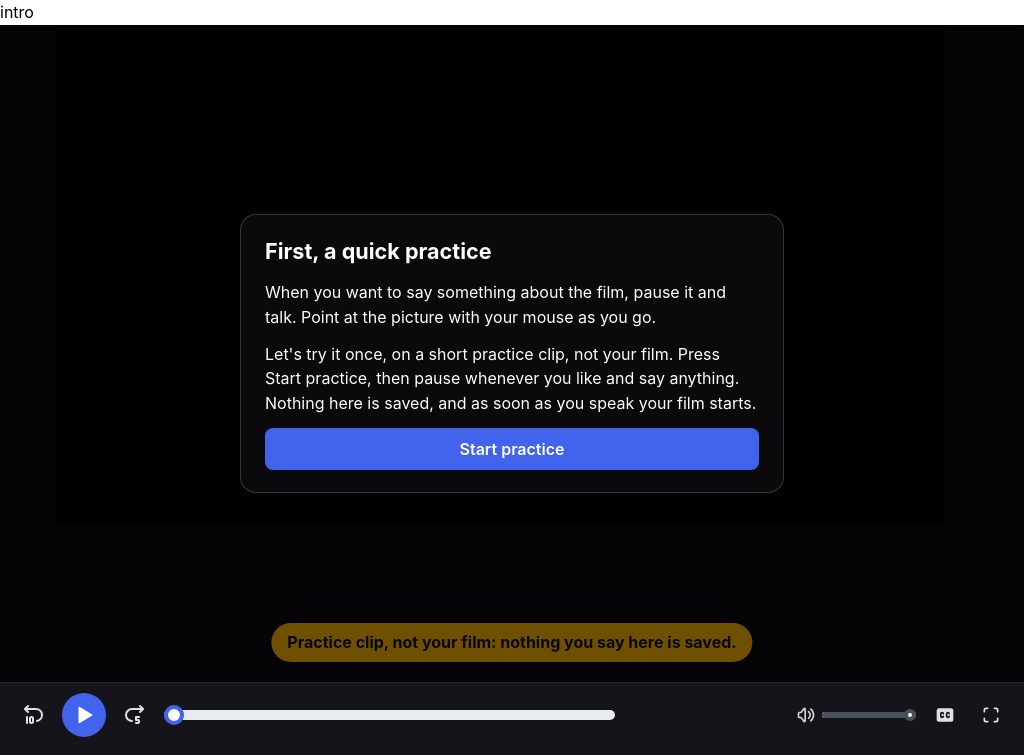
Test case: practice run (talkie) › a couple of seconds into the practice, a big prompt says how to pause, until they do
This screenshot has width=1024, height=755.
Click the button with test id "practice-start": (512, 449) [265, 428, 759, 470]
Wait 2005 ms
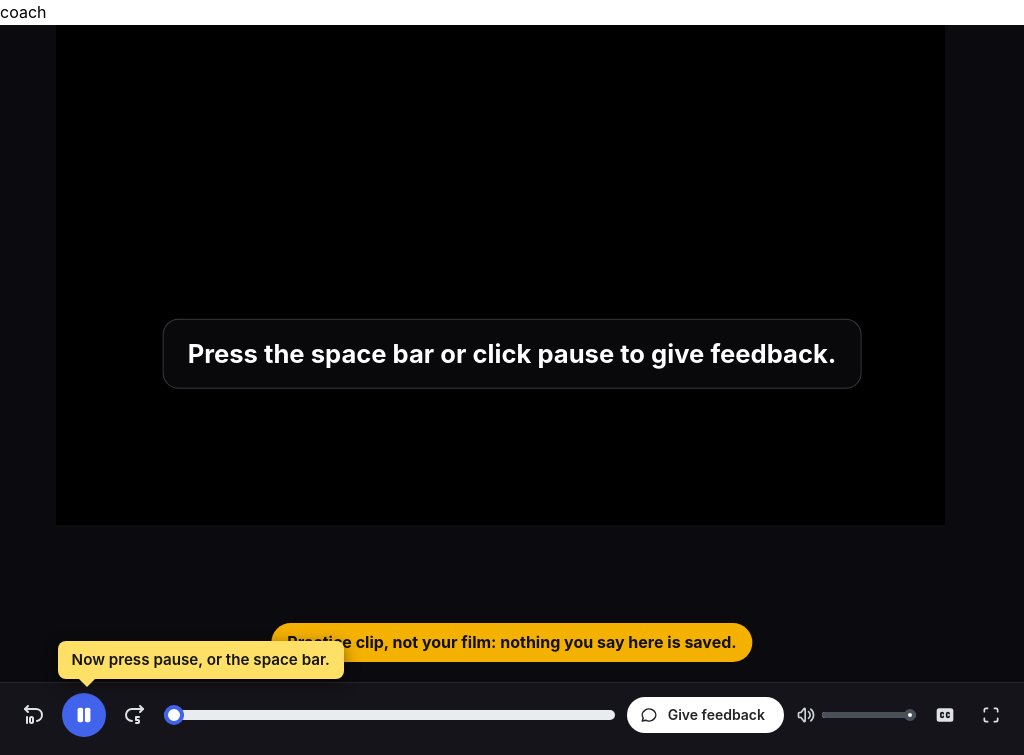
Check: the message with test id "practice-prompt" reads "Press the space bar or click pause to give feedback.", box [188, 338, 836, 369]
Click the button with test id "play-pause": (84, 715) [62, 693, 106, 737]
Wait 5 ms
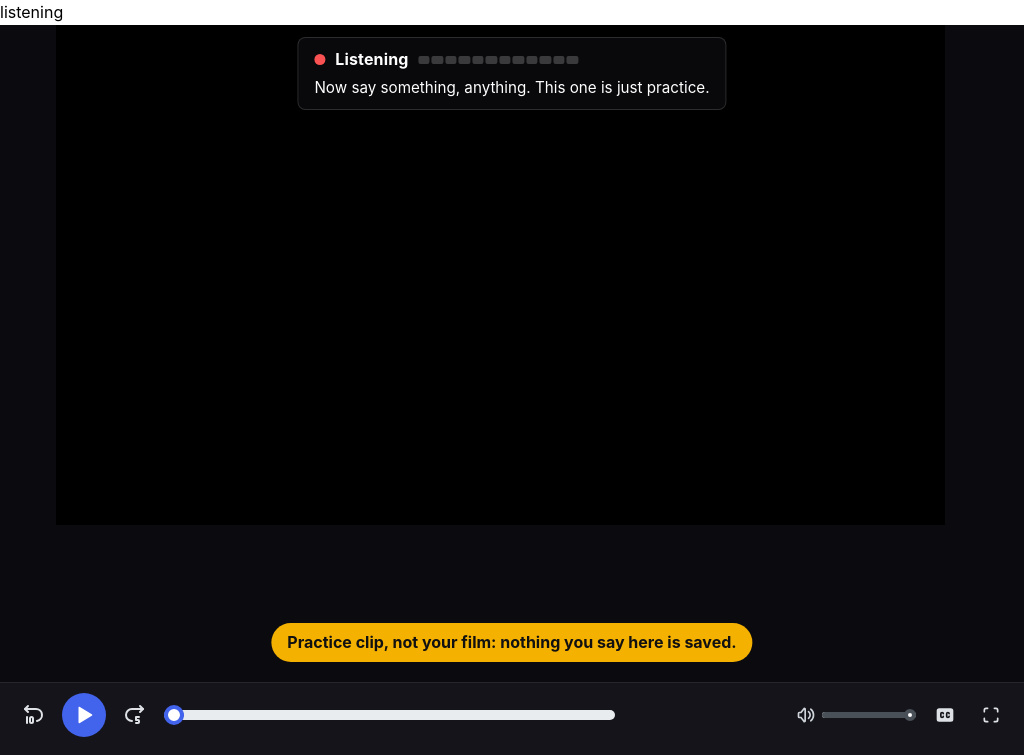
Check: the message with test id "practice-prompt" is gone
Check: the message "Listening Now say something, anything. This one is just practice." is shown, box [297, 37, 727, 110]
